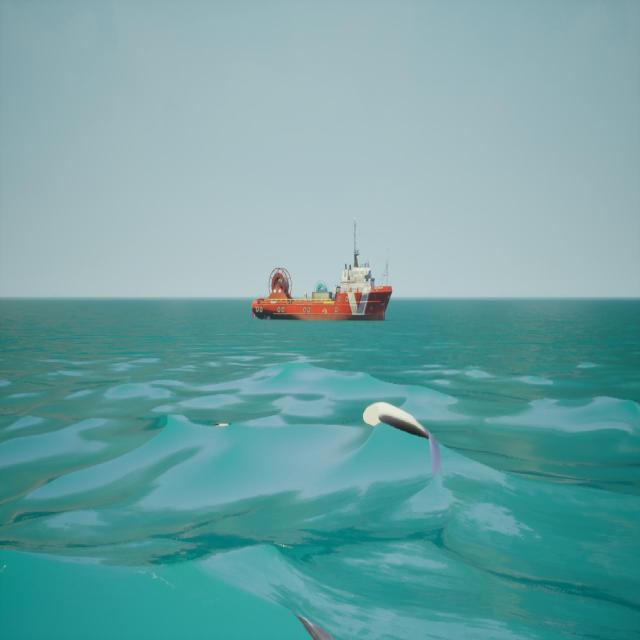tug boat: (253, 220, 395, 325)
